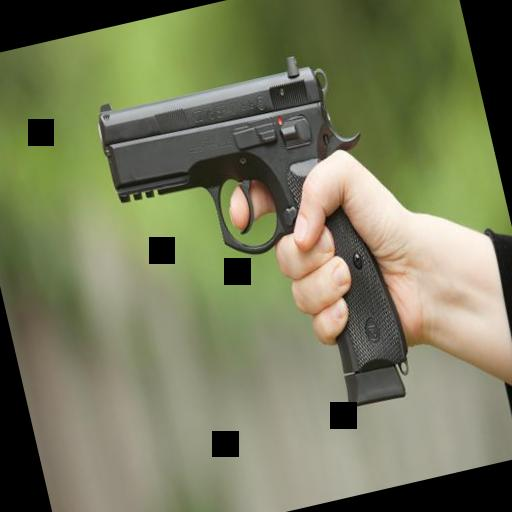Handgun: (86, 44, 419, 454)
